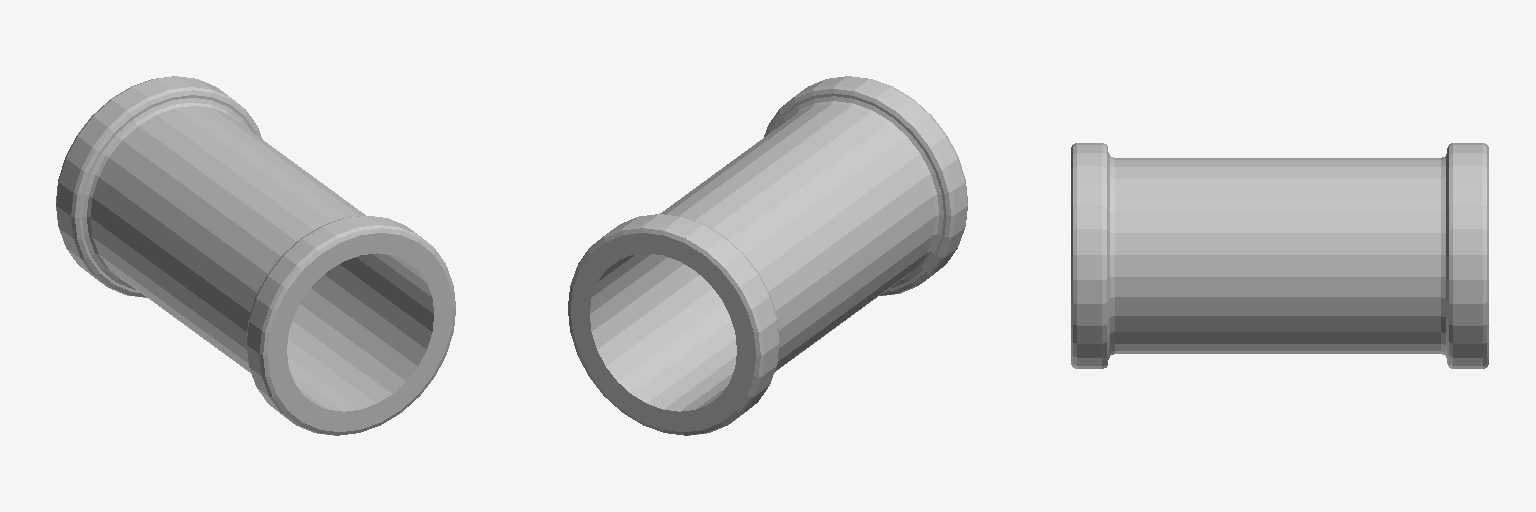
File: SLEEVE2.obj
The picture shows the model from 3 angles: view 1: azimuth 30°, elevation 25°; view 2: azimuth 150°, elevation 25°; view 3: azimuth 270°, elevation 25°; orthographic projection.
Visible parts, largest first — view 1: SLEEVE2; view 2: SLEEVE2; view 3: SLEEVE2.
Boxes of the visible parts, <box> form: SLEEVE2: <box>56,76,455,435</box>; SLEEVE2: <box>568,76,967,435</box>; SLEEVE2: <box>1071,143,1488,368</box>.
Size of the model in its own units: 4.23 by 4.23 by 7.81.